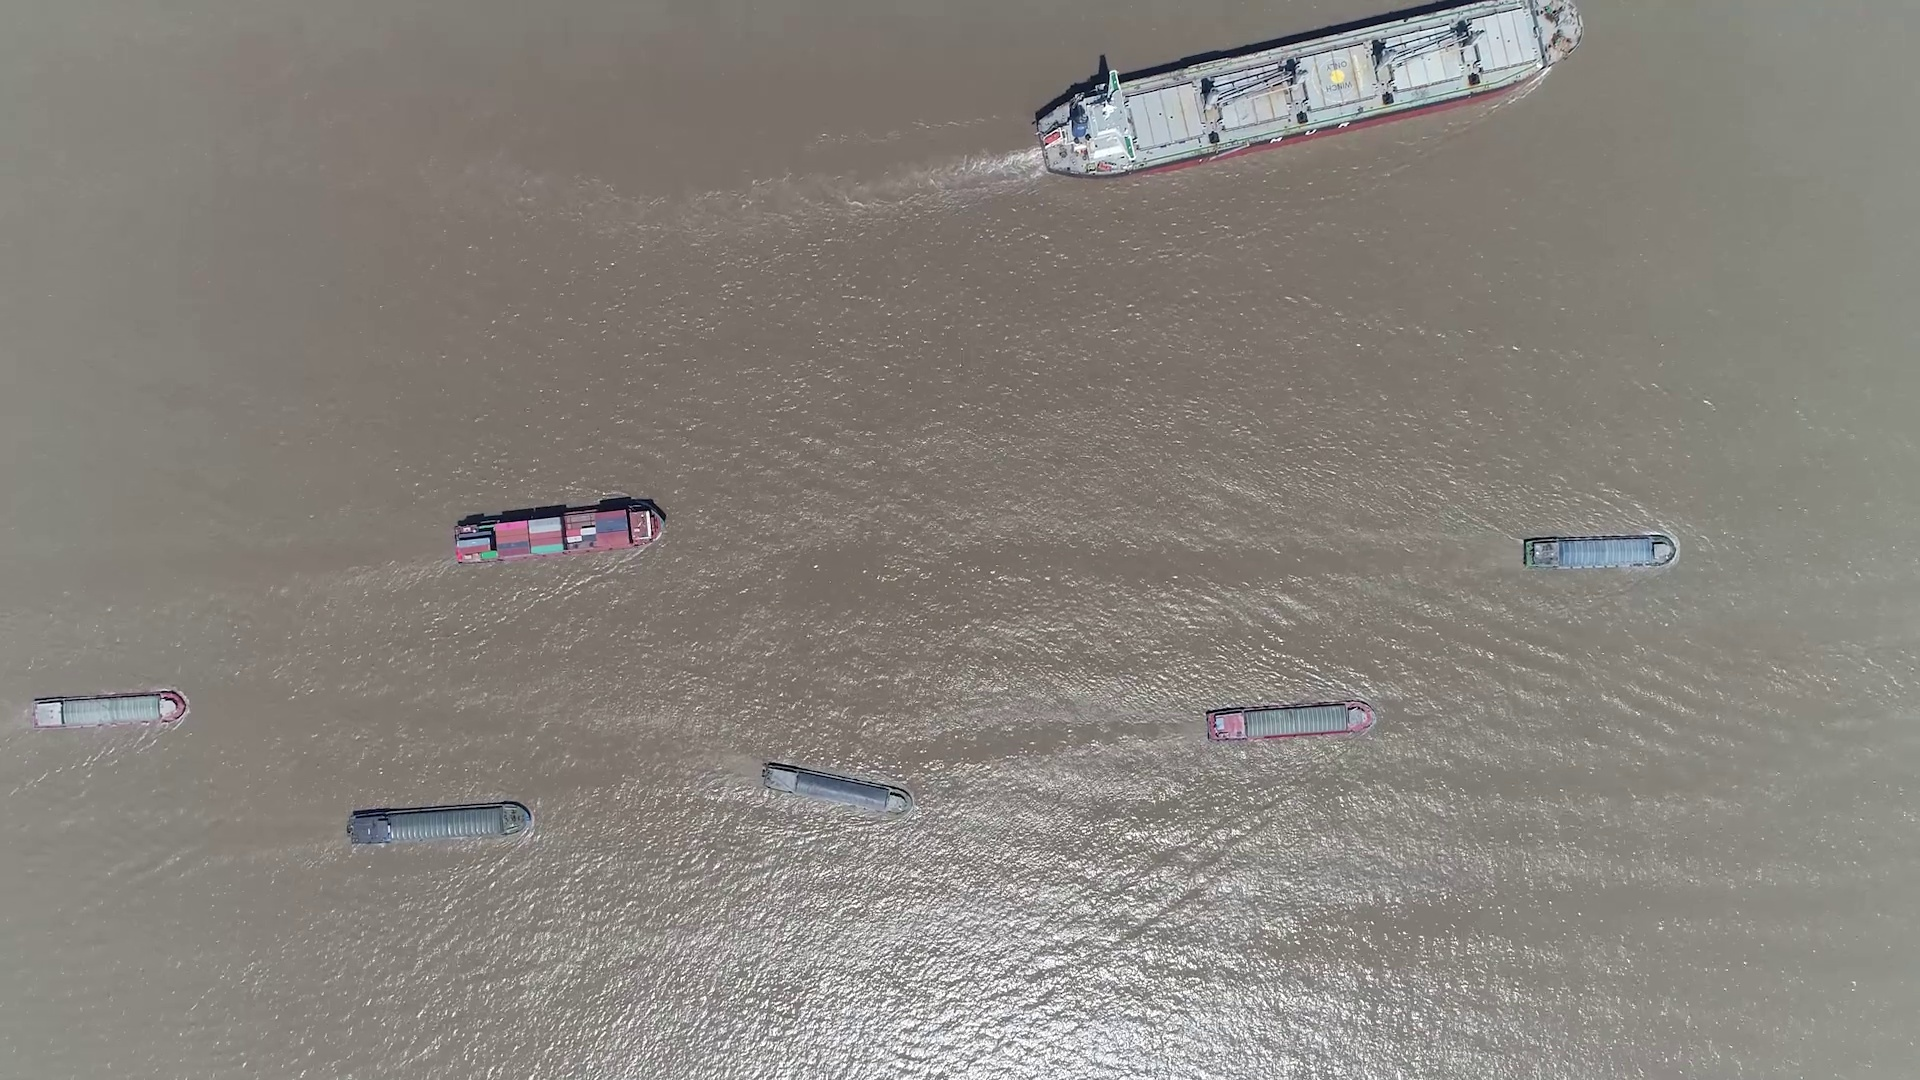ship: (1033, 0, 1581, 177), (454, 501, 663, 564), (760, 761, 910, 816), (349, 802, 534, 844), (1205, 702, 1375, 742), (28, 691, 187, 729), (1522, 534, 1676, 570)
